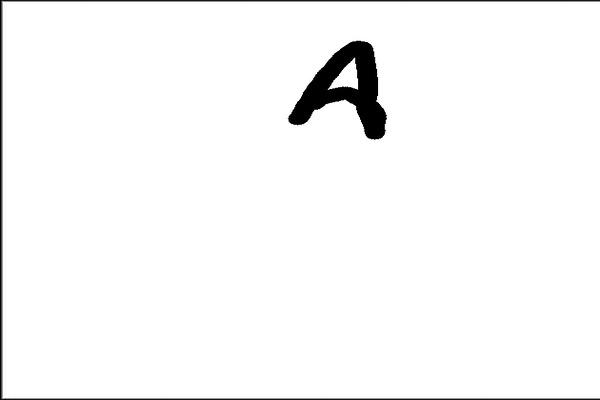A: (277, 29, 389, 142)
